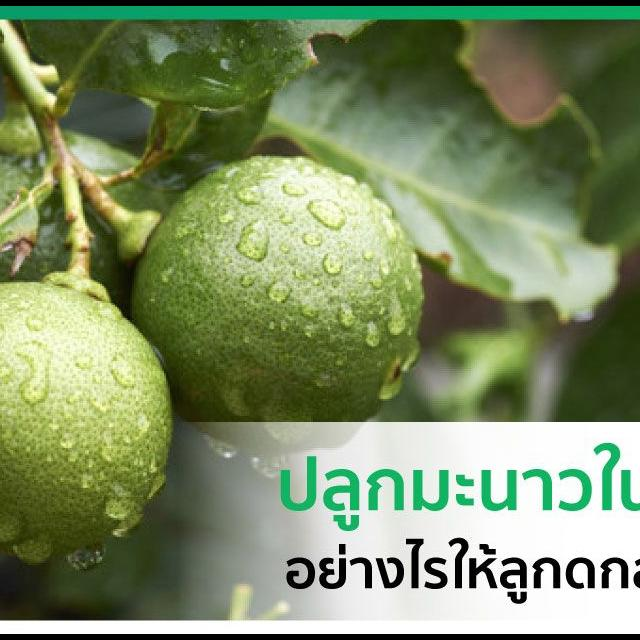lime: (111, 151, 434, 465), (0, 267, 181, 580)
